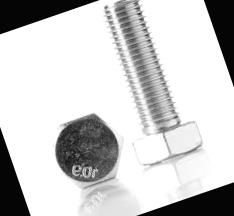hexagonal: (44, 106, 133, 194)
